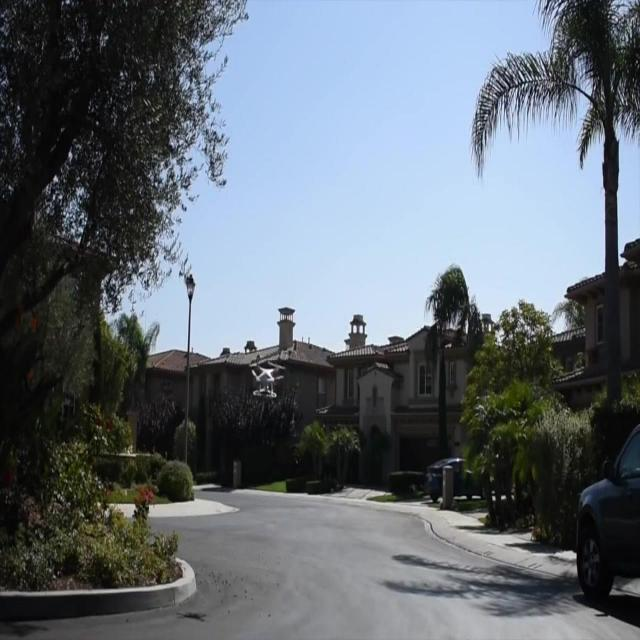UAV: (248, 360, 286, 398)
